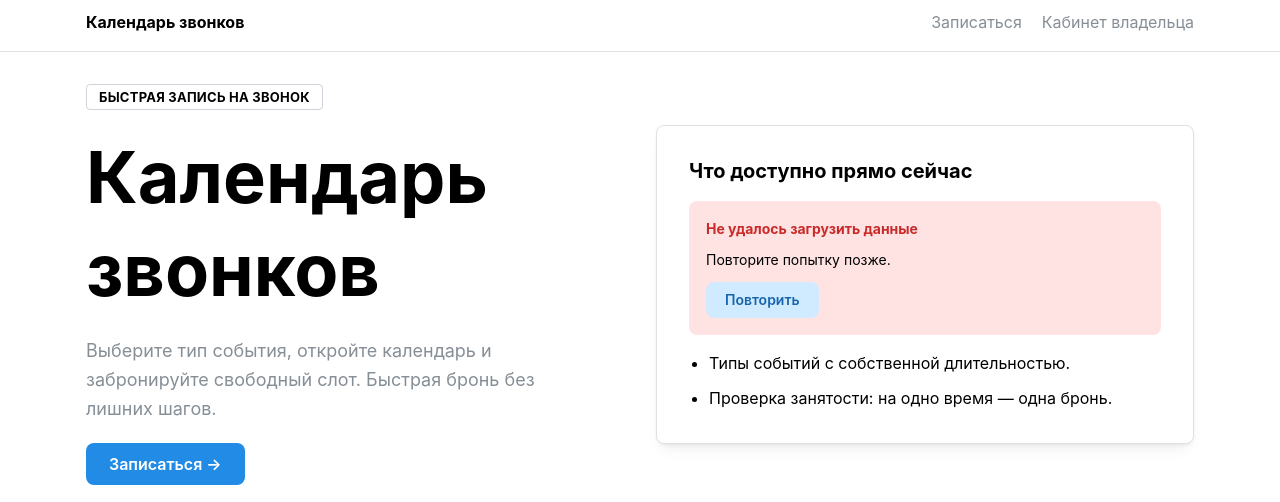
Test case: лендинг › показывает ошибку чтения и повторяет запрос по «Повторить»
This screenshot has width=1280, height=502.
Expected: the message shows "Не удалось загрузить данные", [706, 220, 918, 237]
Expected: the text "Повторите попытку позже." is shown, [706, 250, 891, 270]
Step 1. Click the button "Повторить" → x=762, y=300, box [706, 282, 819, 318]
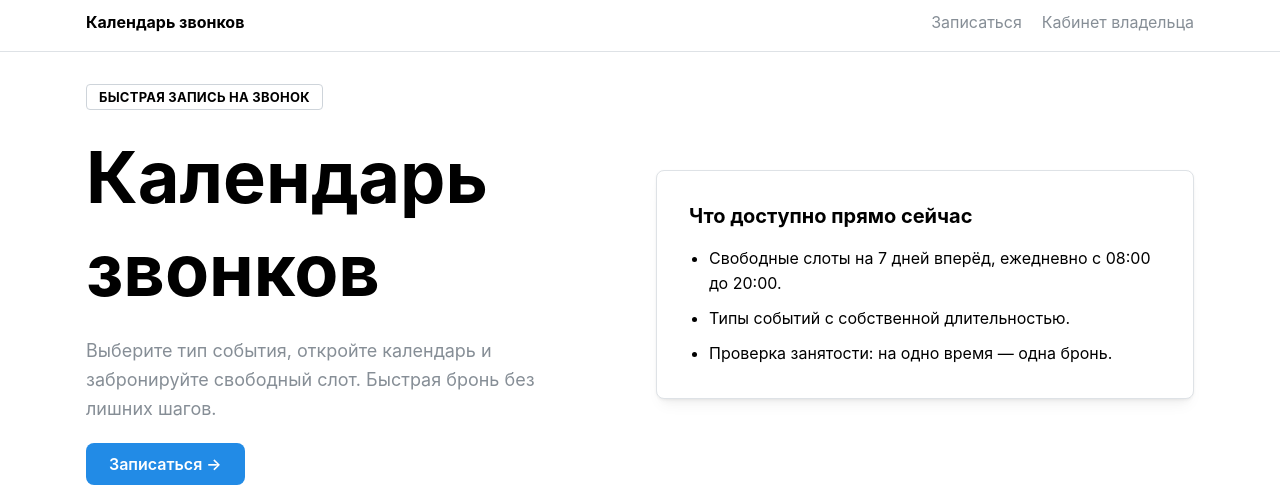
Expected: the text "Свободные слоты на 7 дней вперёд, ежедневно с 08:00 до 20:00." is shown, [709, 246, 1161, 296]
